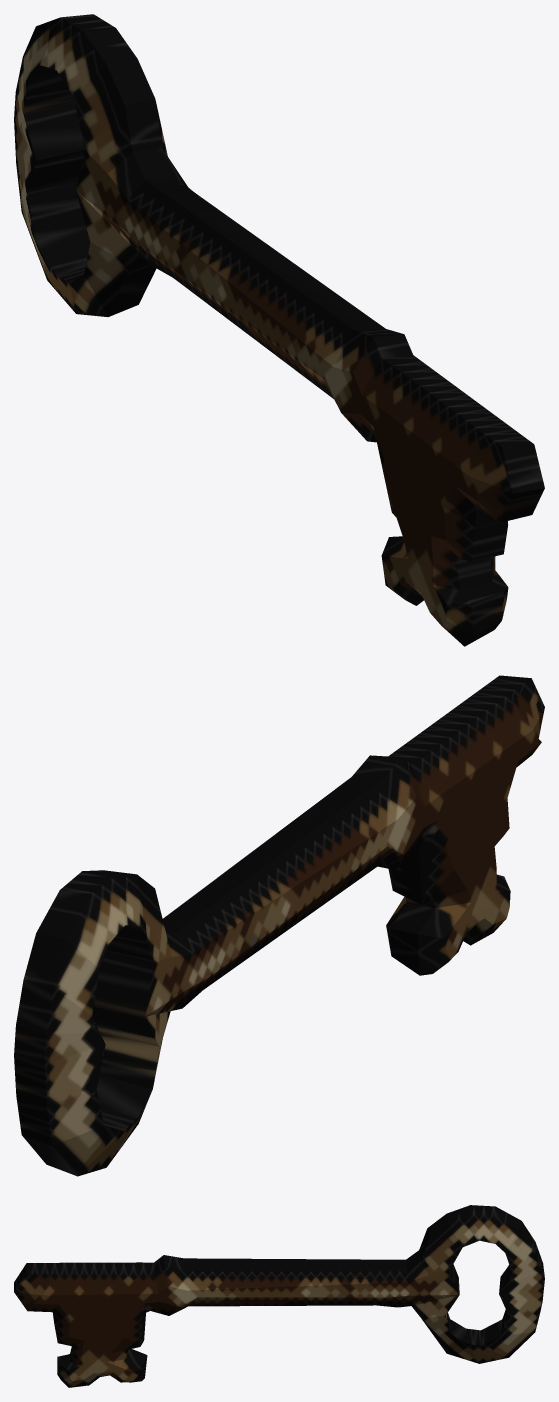
Rendered from Key.glb.
3 renders of one model, top to bottom at view 1: azimuth 30°, elevation 25°; view 2: azimuth 150°, elevation 25°; view 3: azimuth 270°, elevation 25°, orthographic. The views are drawn at different scales.
Parts seen in each view (by area): view 1: Key Export.001; view 2: Key Export.001; view 3: Key Export.001.
Boxes of the visible parts, x1=… form: Key Export.001: x1=14, y1=14, x2=544, y2=646; Key Export.001: x1=14, y1=675, x2=544, y2=1176; Key Export.001: x1=14, y1=1205, x2=544, y2=1387.
Size of the model in its own units: 0.2879 by 1.38 by 3.73.
Materials: 1 (1 with a texture image).
